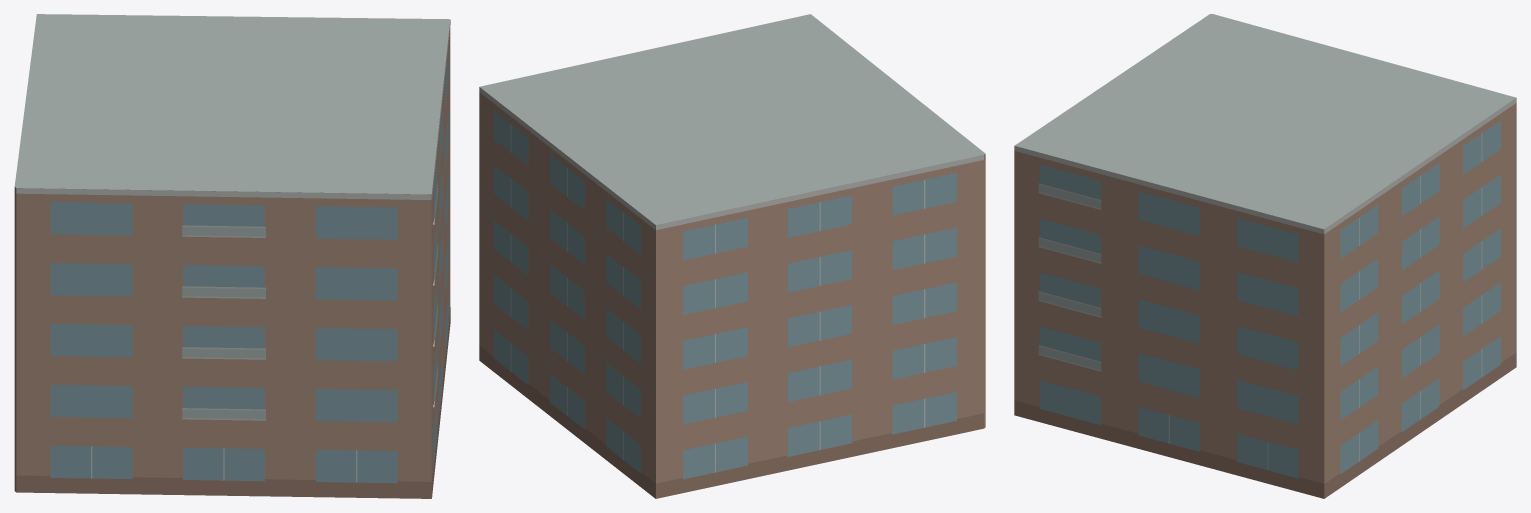
File: survey-upis-32891498.glb
3 renders of one model, left to right at view 1: azimuth 30°, elevation 25°; view 2: azimuth 150°, elevation 25°; view 3: azimuth 270°, elevation 25°, orthographic. The views are drawn at different scales.
Visible parts, largest first — view 1: survey-upis-32891498.tmp; view 2: survey-upis-32891498.tmp; view 3: survey-upis-32891498.tmp.
Boxes of the visible parts, bbox=[...] form: survey-upis-32891498.tmp: bbox=[14, 14, 450, 498]; survey-upis-32891498.tmp: bbox=[479, 14, 985, 498]; survey-upis-32891498.tmp: bbox=[1014, 14, 1516, 498].
Bounding box in the file's own units: 22.46 × 13.1 × 22.13.
